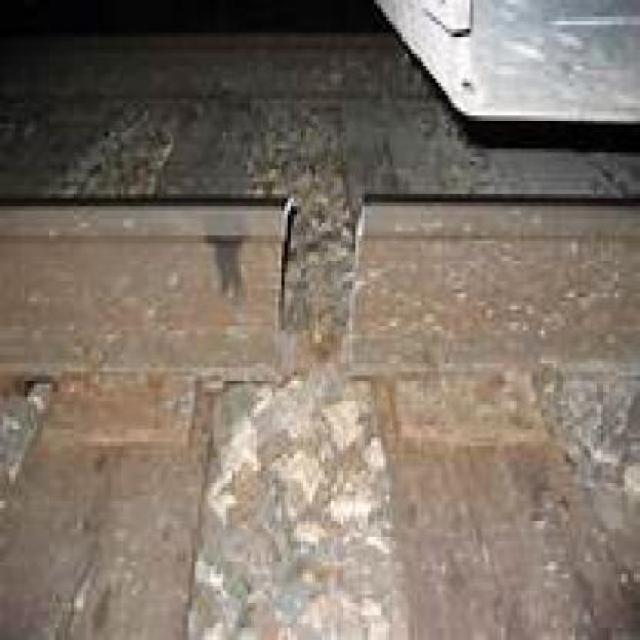defective: (97, 86, 616, 536)
